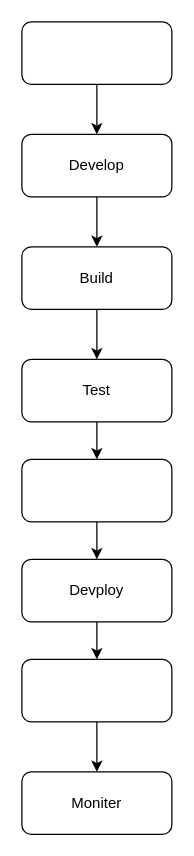
Some shapes in this 194 by 856 pixel diagram are drawn without their labels. Each missing label, with the box of its shape:
Operate: (21, 658, 172, 722)
Plan: (21, 21, 172, 84)
Release: (21, 458, 172, 522)
